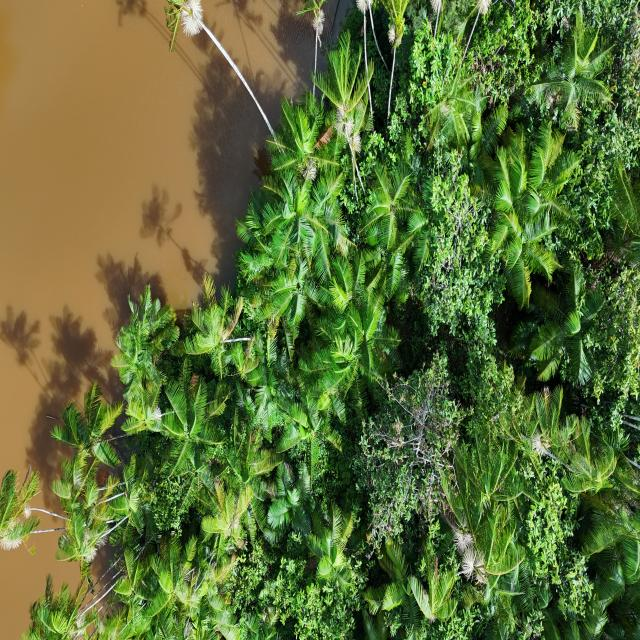vegetation: (1, 1, 638, 638)
